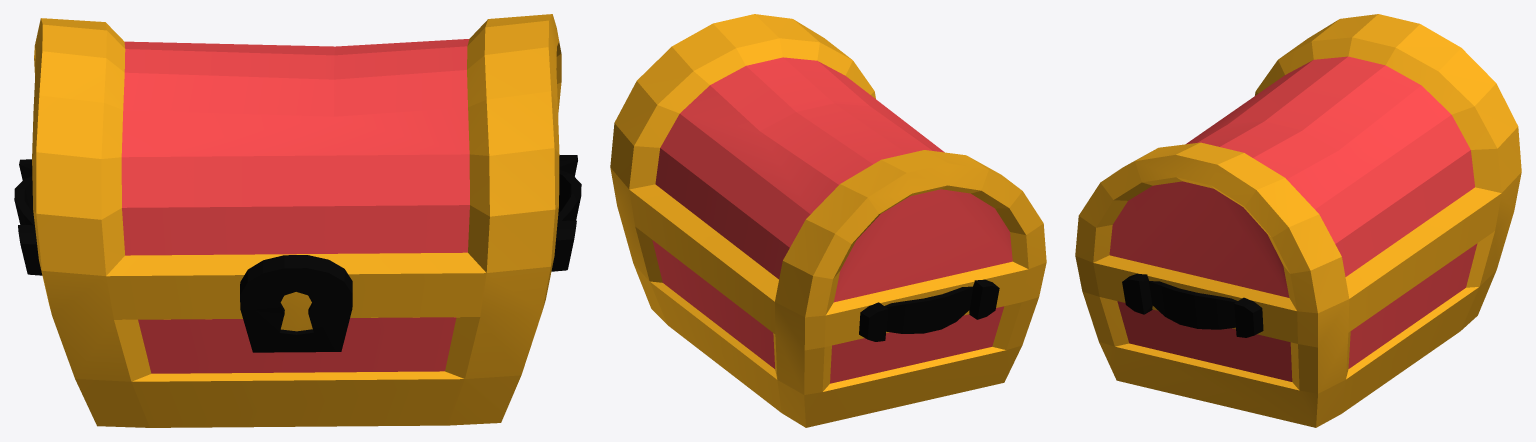
The model's file is Toy40.fbx.
The picture shows the model from 3 angles, left to right: view 1: azimuth 30°, elevation 25°; view 2: azimuth 150°, elevation 25°; view 3: azimuth 270°, elevation 25°; orthographic projection. The views are drawn at different scales.
Parts seen in each view (by area): view 1: Toy40; view 2: Toy40; view 3: Toy40.
Boxes of the visible parts, bbox=[...] form: Toy40: bbox=[14, 14, 581, 427]; Toy40: bbox=[610, 14, 1046, 427]; Toy40: bbox=[1075, 14, 1521, 427].
Size of the model in its own units: 0.2003 by 0.1186 by 0.1826.
